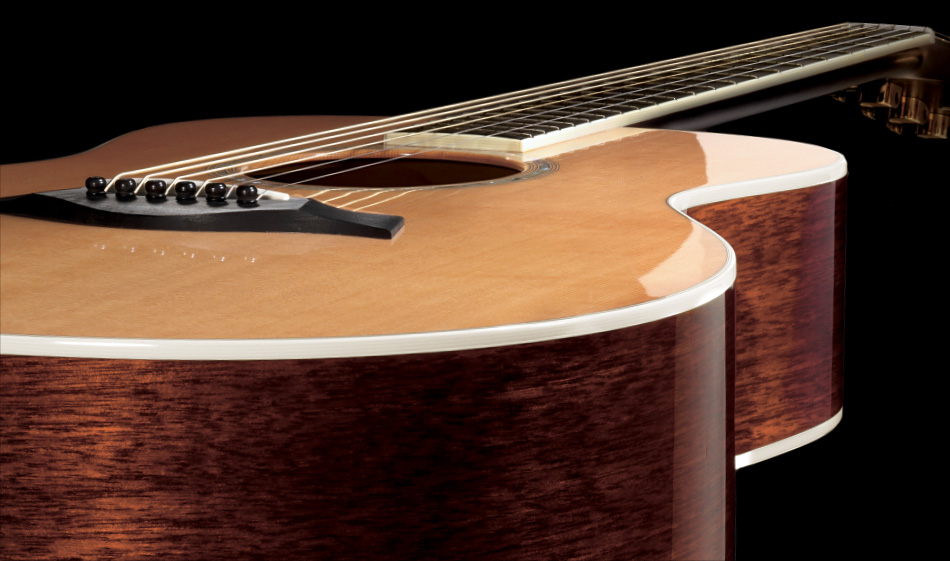guitar: (1, 19, 937, 561)
